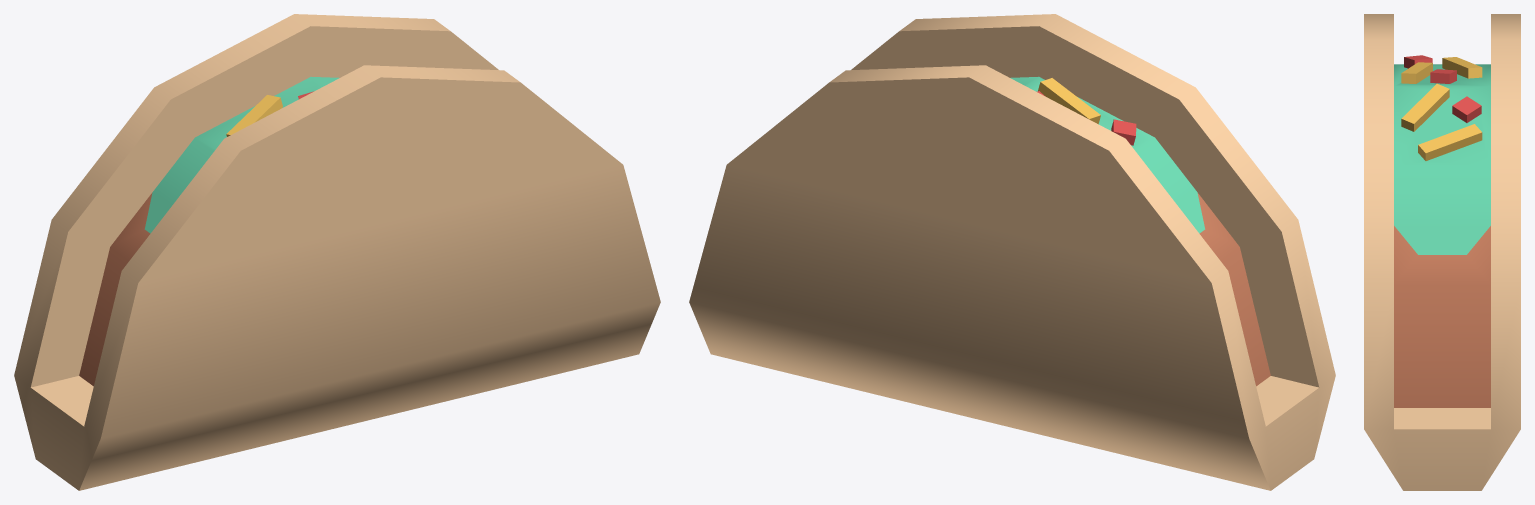
The model's file is taco.GLB.
The picture shows the model from 3 angles, left to right: view 1: azimuth 30°, elevation 25°; view 2: azimuth 150°, elevation 25°; view 3: azimuth 270°, elevation 25°; orthographic projection. The views are drawn at different scales.
Visible parts, largest first — view 1: taco; view 2: taco; view 3: taco.
Part boxes in pixels (x1=…): taco: x1=14, y1=14, x2=660, y2=490; taco: x1=689, y1=14, x2=1335, y2=490; taco: x1=1364, y1=14, x2=1520, y2=490.
Bounding box in the file's own units: 0.4256 × 0.2622 × 0.114.
